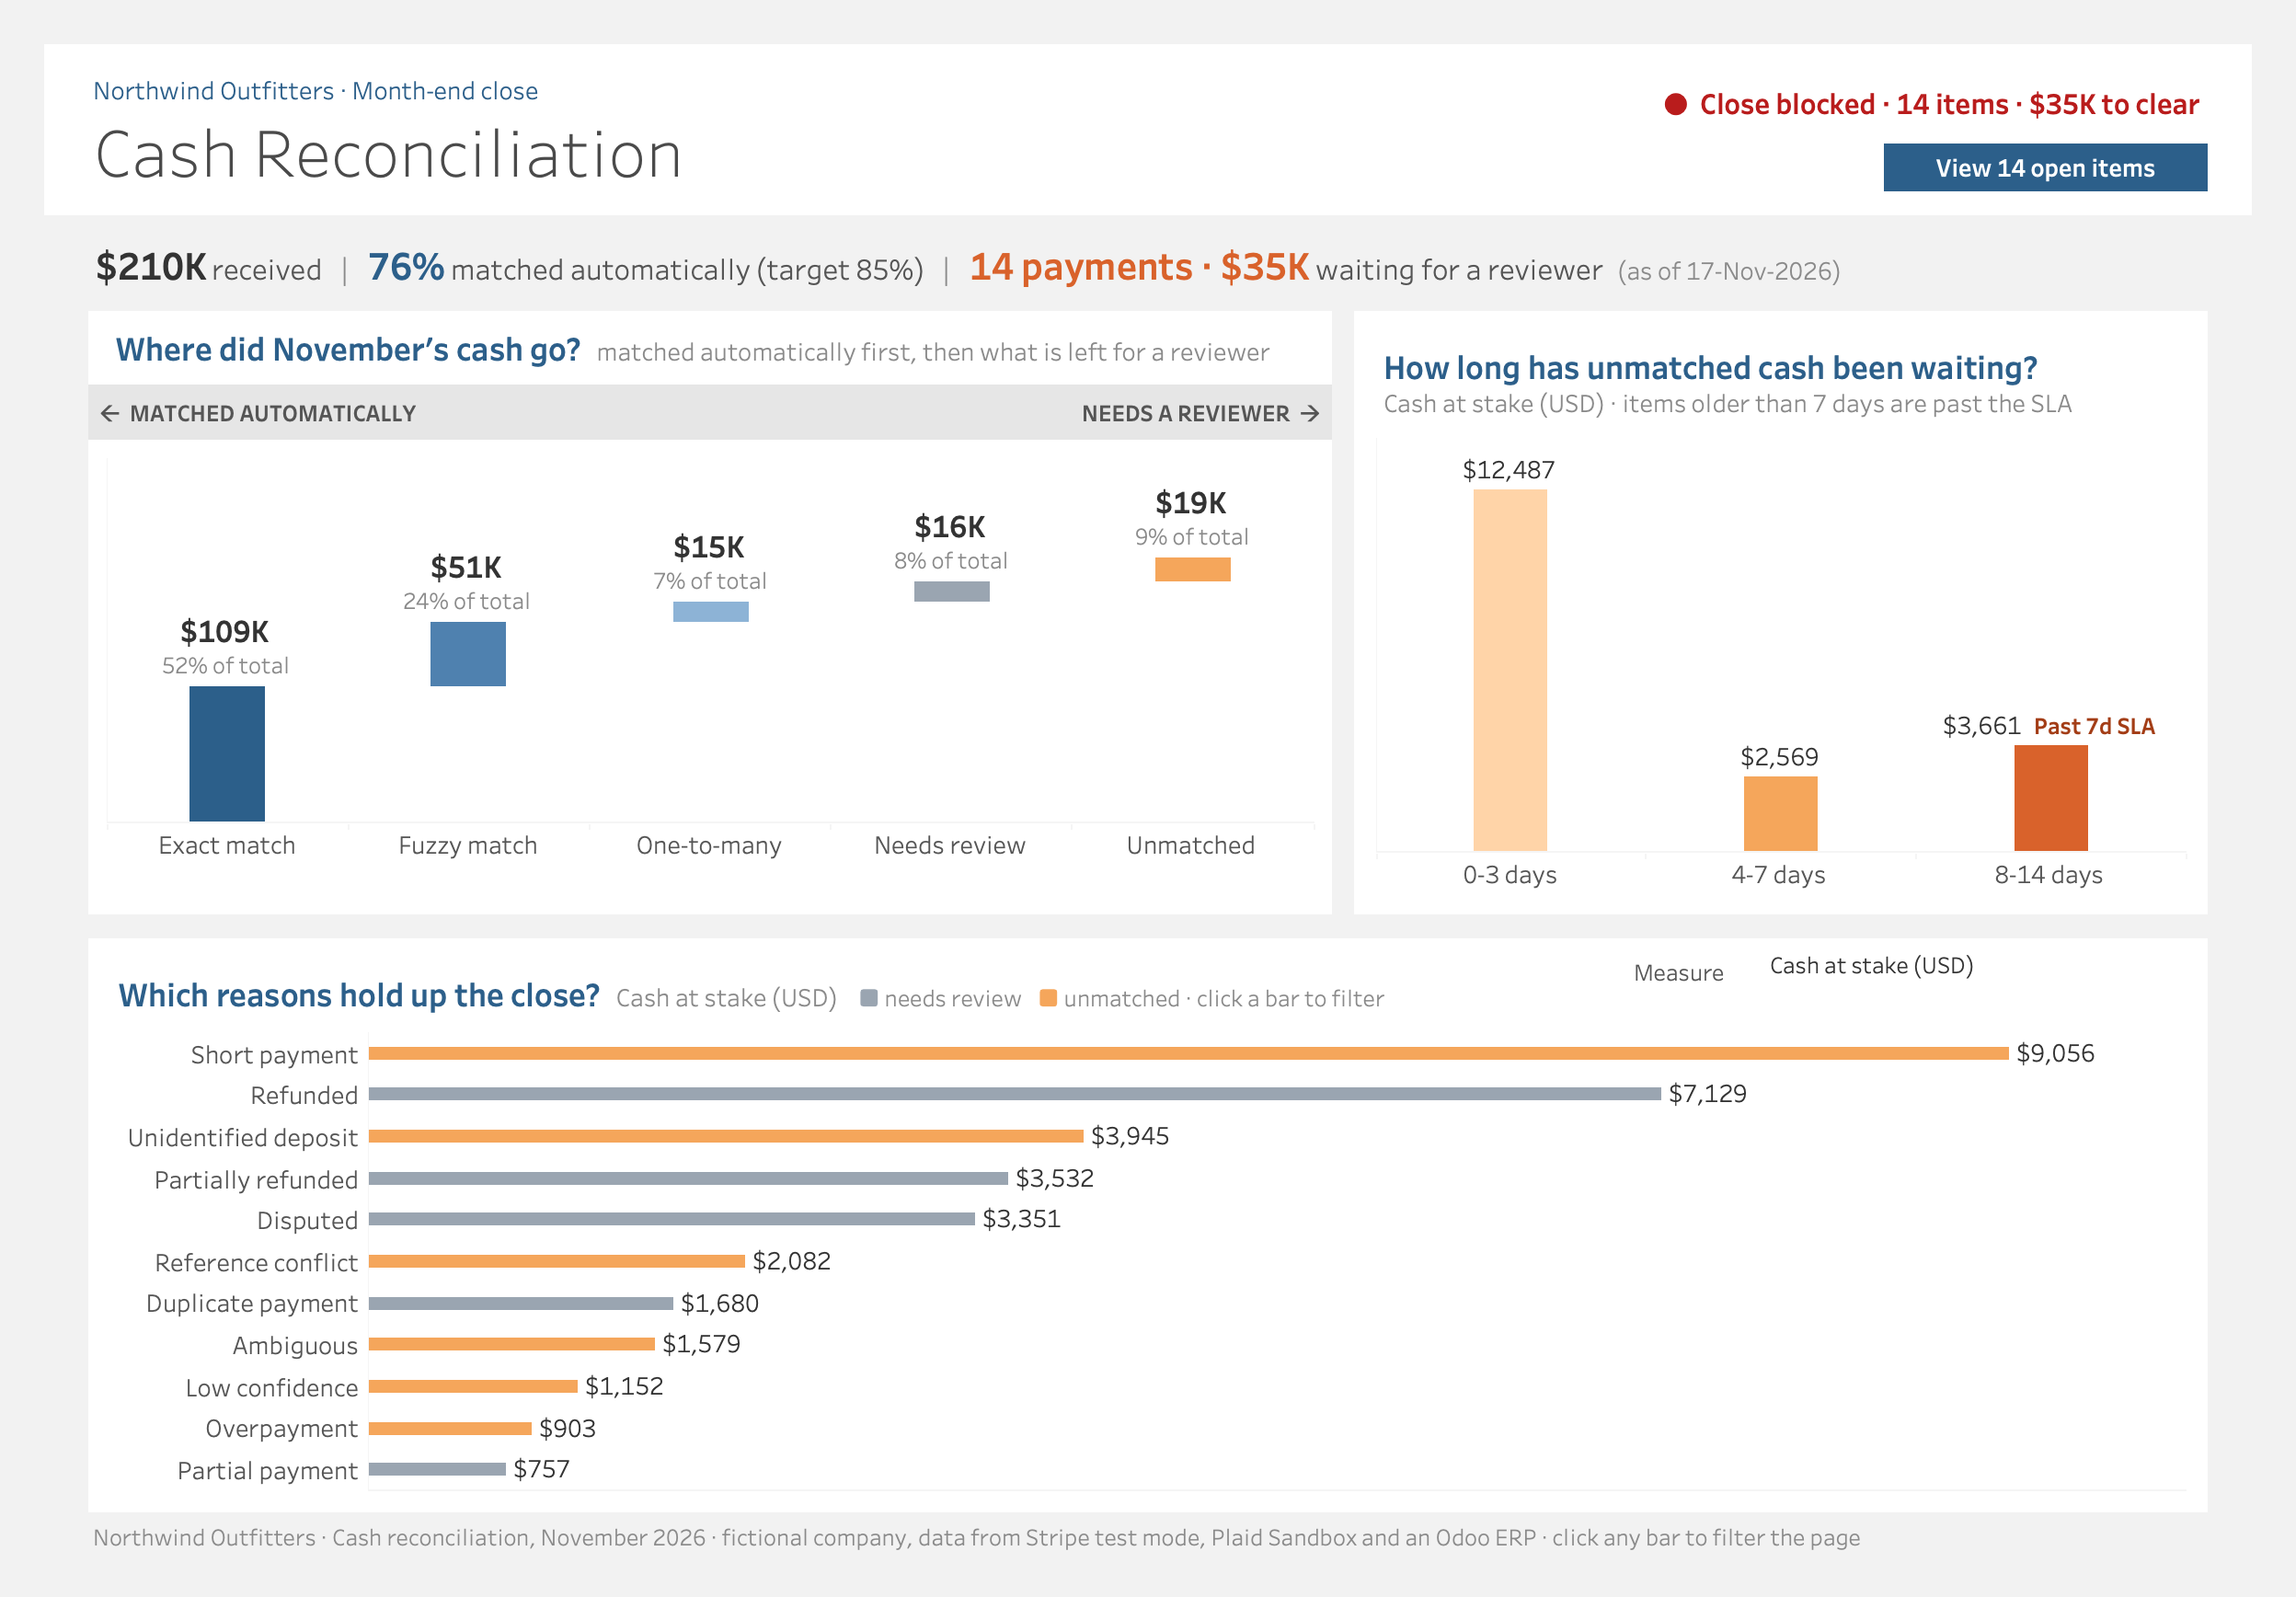

The dashboard page shown, as its layout file describes it:
{"tool":"tableau","page":{"name":"Close dashboard","canvas":[1200,820],"ordinal":0},"visuals":[{"type":"blank","box":[0,0,1200,92]},{"type":"text","box":[24,14,700,70]},{"type":"worksheet","title":"Close status","mark":"Text","box":[756,20,420,26]},{"type":"dashboard-object","box":[1000,54,176,26]},{"type":"text","box":[316,96,860,48]},{"type":"worksheet","title":"Headline","mark":"Text","box":[24,104,1152,32]},{"type":"text","box":[24,144,676,40]},{"type":"worksheet","title":"Action_Table","mark":"Text","rows":["status","exception_reason","Calc_payer","source_id"],"box":[316,144,860,512]},{"type":"worksheet","title":"Unmatched cash aging","mark":"Bar","rows":["Calc_metric"],"cols":["aging_bucket"],"box":[712,144,464,326]},{"type":"text","box":[24,184,405,22]},{"type":"text","box":[429,184,271,22]},{"type":"worksheet","title":"Cash flow by step","mark":"GanttBar","rows":["Calc_flow_end"],"cols":["Calc_step"],"box":[24,206,676,264]},{"type":"worksheet","title":"Exception queue by reason","mark":"Bar","rows":["exception_reason"],"cols":["Calc_metric"],"box":[24,482,1152,310]},{"type":"parameter","param":"[Parameters].[p_Metric_View]","box":[864,492,300,24]},{"type":"text","box":[24,796,1152,18]}]}

Visuals, with their boxes in screenshot pixels (x1, y1, x2, y2), scaled from the page's 1200x820 canvas onto the 2296x1597 screenshot:
blank: rect(0, 0, 2295, 179)
text: rect(46, 28, 1385, 164)
"Close status" worksheet (Text marks): rect(1446, 39, 2250, 89)
dashboard-object: rect(1913, 105, 2250, 155)
text: rect(604, 187, 2250, 281)
"Headline" worksheet (Text marks): rect(46, 202, 2250, 265)
text: rect(46, 281, 1339, 359)
"Action_Table" worksheet (Text marks): rect(604, 281, 2250, 1278)
"Unmatched cash aging" worksheet (Bar marks): rect(1362, 281, 2250, 915)
text: rect(46, 359, 821, 401)
text: rect(821, 359, 1339, 401)
"Cash flow by step" worksheet (GanttBar marks): rect(46, 401, 1339, 915)
"Exception queue by reason" worksheet (Bar marks): rect(46, 938, 2250, 1543)
parameter: rect(1653, 959, 2227, 1005)
text: rect(46, 1550, 2250, 1585)
